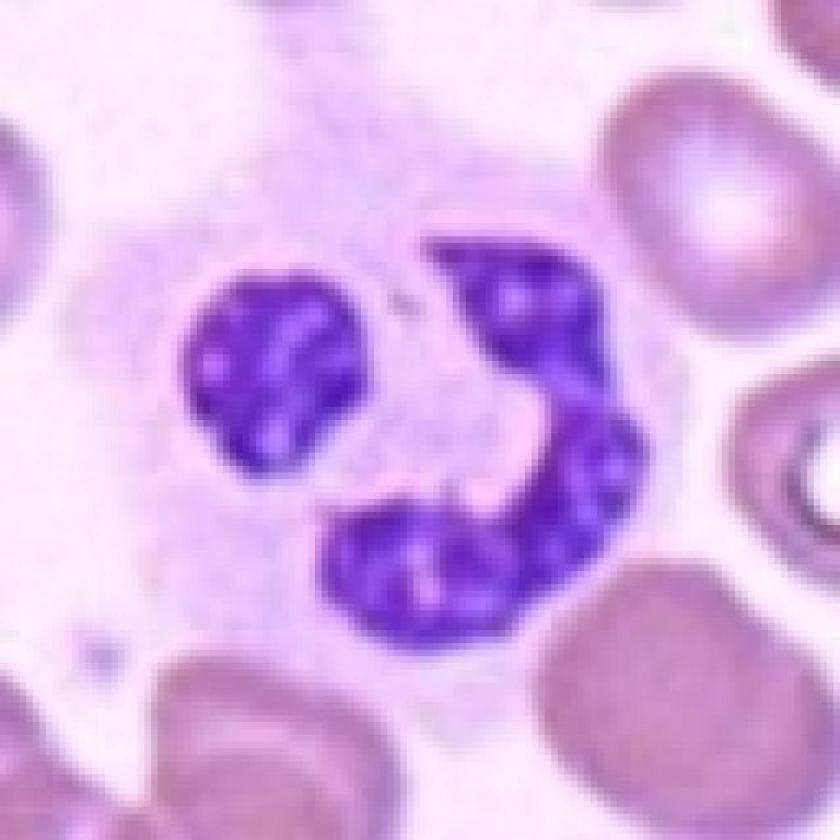neutrophil: (70, 93, 692, 746)
